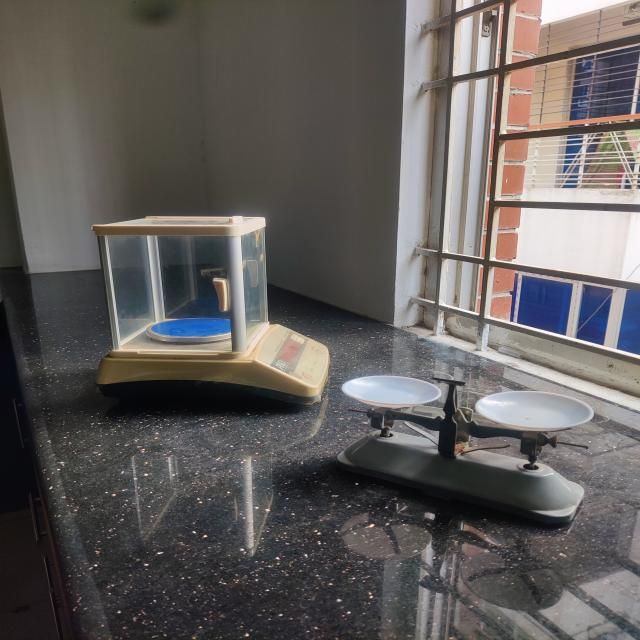Mechanical_Balance_Scale: (335, 363, 605, 533)
Precision_Weight_Scale: (71, 210, 332, 408)
